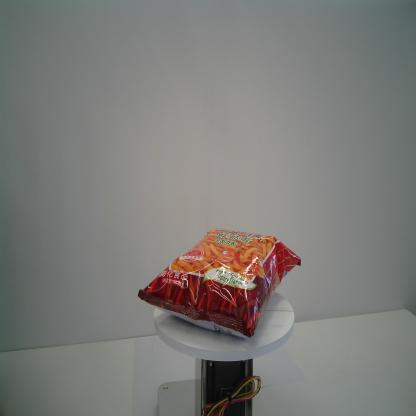Puffed Food: (136, 227, 302, 341)
